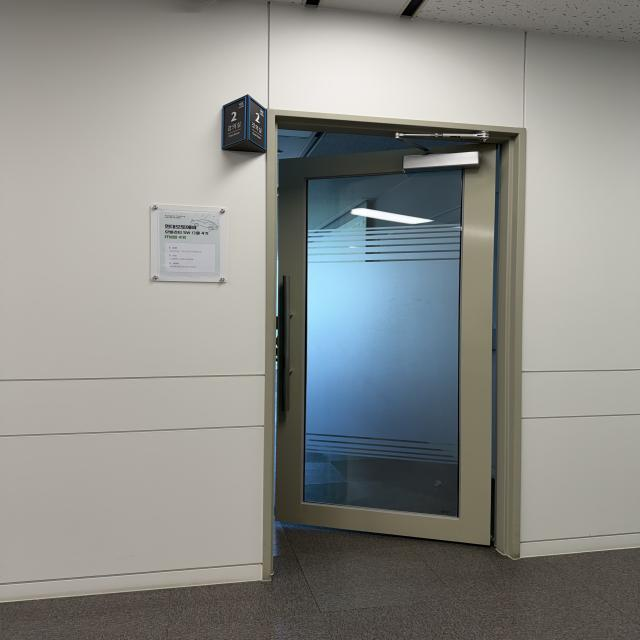sign: (222, 105, 251, 137)
